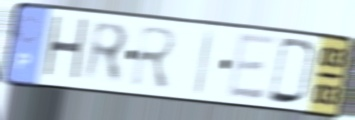D: (266, 35, 319, 108)
E: (225, 30, 280, 102)
H: (39, 12, 91, 86)
I: (191, 28, 216, 98)
R: (128, 23, 181, 91), (81, 18, 131, 88)
